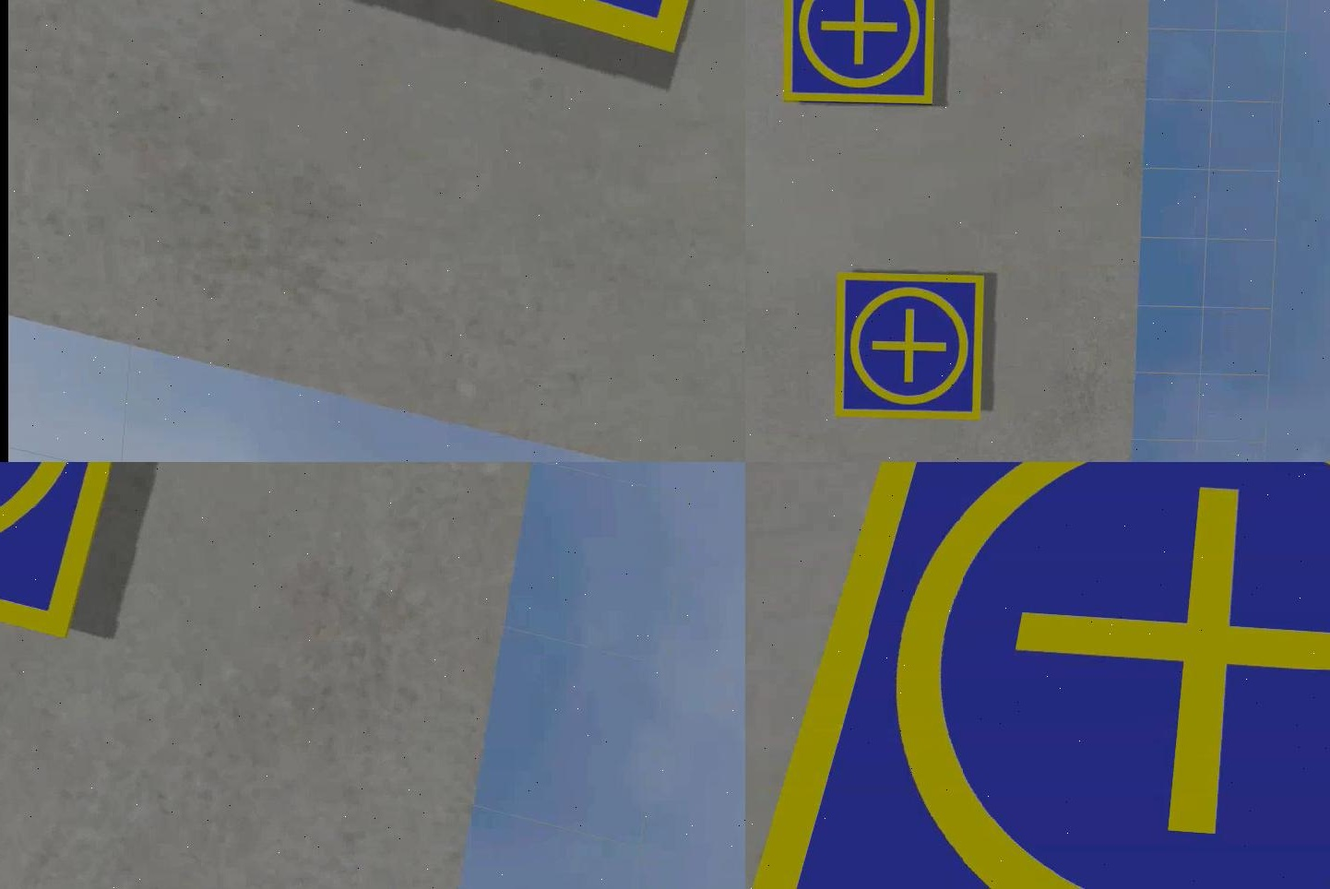small_base: (744, 462, 1328, 889), (829, 273, 982, 422), (779, 1, 936, 107)
